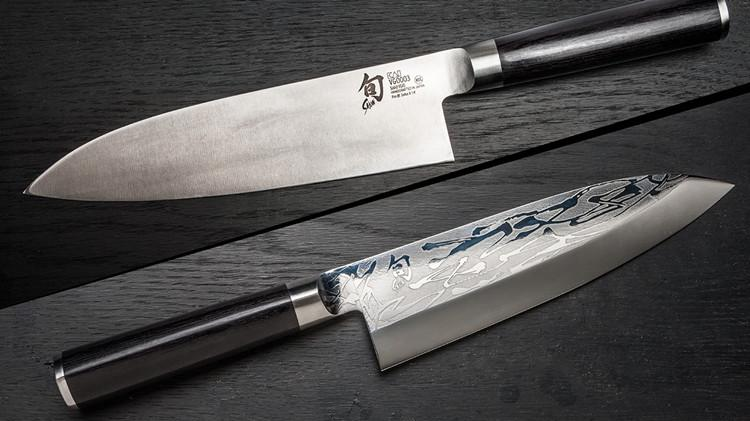knife: (9, 4, 742, 421)
